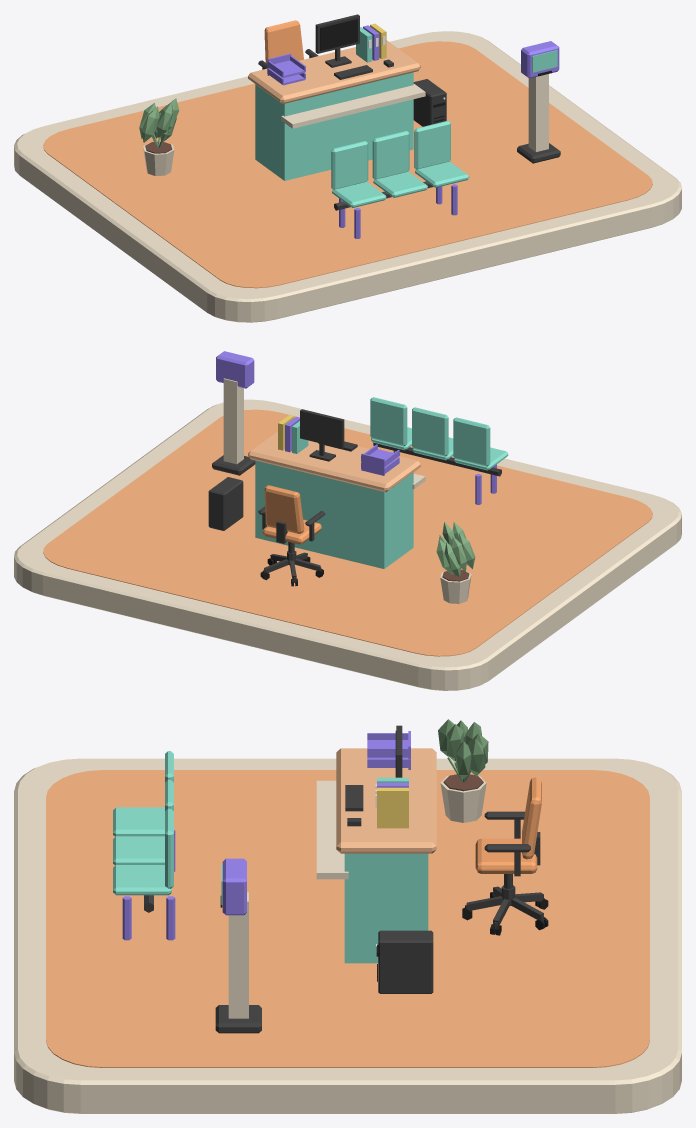
The model's file is room.fbx.
3 renders of one model, top to bottom at view 1: azimuth 30°, elevation 25°; view 2: azimuth 150°, elevation 25°; view 3: azimuth 270°, elevation 25°, orthographic. The views are drawn at different scales.
Visible parts, largest first — view 1: COM-02 Floor Surface, COM-01 Rounded Base Direct, Counter body, Countertop, Pot, Visitor shelf, Frame, Back, Back.001, Pedestal, Back.002, COM-04_Chair_blender_direct (+6 smaller); view 2: COM-02 Floor Surface, COM-01 Rounded Base Direct, Counter body, Countertop, COM-04_Chair_blender_direct, Pot, Pedestal, Tower, Frame, Back.002, Back, Back.001 (+2 smaller); view 3: COM-02 Floor Surface, COM-01 Rounded Base Direct, Counter body, Countertop, COM-04_Chair_blender_direct, Pot, Tower, Visitor shelf, Pedestal, Seat.002, Seat, Seat.001 (+4 smaller).
Boxes of the visible parts, x1,y1,x2,y2 form: COM-02 Floor Surface: (43, 41, 652, 288); COM-01 Rounded Base Direct: (14, 31, 681, 322); Counter body: (255, 72, 413, 180); Countertop: (248, 40, 420, 103); Pot: (139, 98, 179, 175); Visitor shelf: (281, 84, 425, 128); Frame: (315, 14, 359, 67); Back: (331, 141, 368, 189); Back.001: (372, 130, 409, 179); Pedestal: (528, 74, 548, 151); Back.002: (414, 120, 450, 169); COM-04_Chair_blender_direct: (258, 20, 318, 69); COM-02 Floor Surface: (43, 409, 652, 656); COM-01 Rounded Base Direct: (14, 399, 681, 690); Counter body: (255, 460, 413, 568); Countertop: (248, 431, 420, 492); COM-04_Chair_blender_direct: (258, 485, 325, 586); Pot: (436, 522, 475, 603); Pedestal: (223, 378, 243, 464); Tower: (208, 477, 243, 530); Frame: (300, 409, 344, 461); Back.002: (370, 397, 407, 446); Back: (453, 417, 490, 466); Back.001: (412, 407, 448, 456); COM-02 Floor Surface: (46, 770, 649, 1067); COM-01 Rounded Base Direct: (14, 758, 681, 1113); Counter body: (344, 853, 428, 963); Countertop: (336, 748, 436, 853); COM-04_Chair_blender_direct: (462, 777, 548, 935); Pot: (438, 719, 488, 822); Tower: (378, 930, 433, 993); Visitor shelf: (316, 780, 348, 879); Pedestal: (228, 892, 248, 1018); Seat.002: (113, 865, 171, 895); Seat: (113, 807, 164, 836); Seat.001: (113, 836, 164, 865).
Size of the model in its own units: 600 by 187 by 520.
